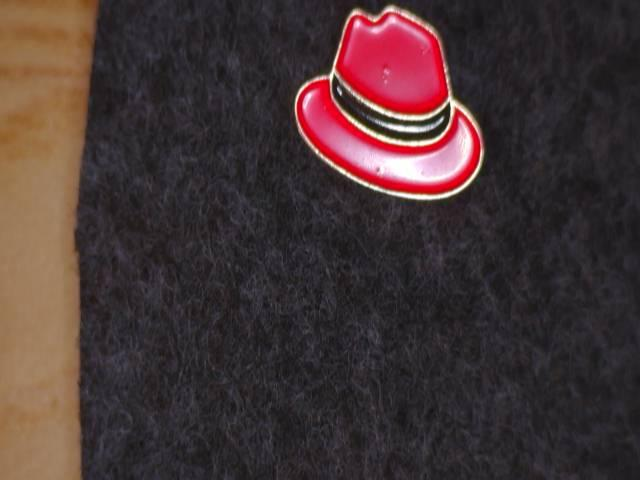Red-Hat: (292, 0, 513, 237)
